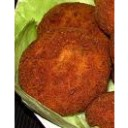cutlet: (19, 25, 109, 112)
